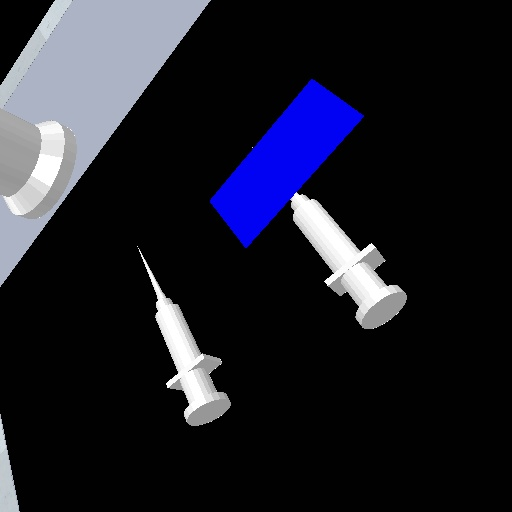jeringuilla: (130, 241, 234, 436), (288, 190, 411, 334)
